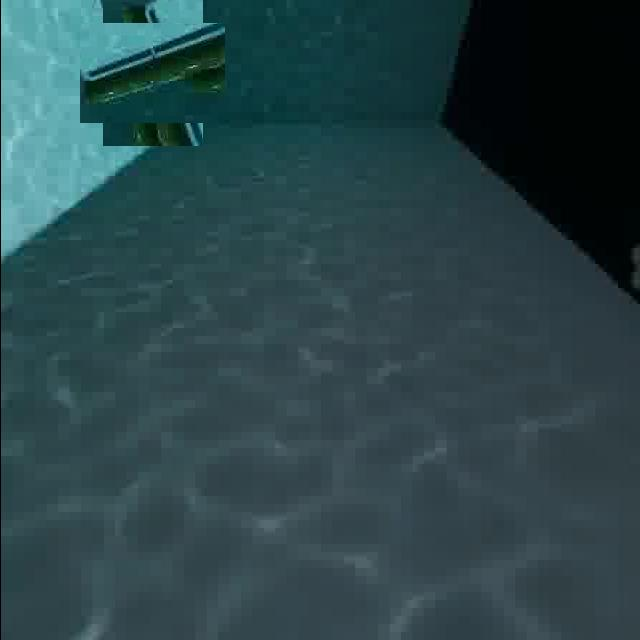Pipe: (90, 11, 213, 134)
